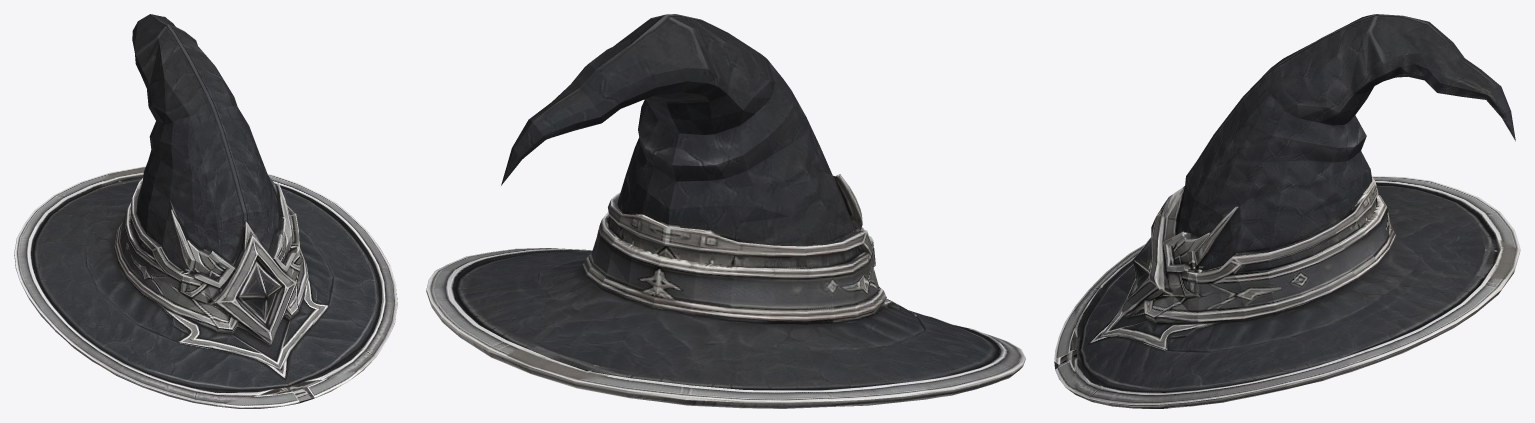
Rendered from BlackMageHat.glb.
3 views of the same model, side by side, from view 1: azimuth 30°, elevation 25°; view 2: azimuth 150°, elevation 25°; view 3: azimuth 270°, elevation 25° (orthographic). The views are drawn at different scales.
Bounding box in the file's own units: 1.9 × 1.57 × 1.9.
Materials: 1 (1 with a texture image).
